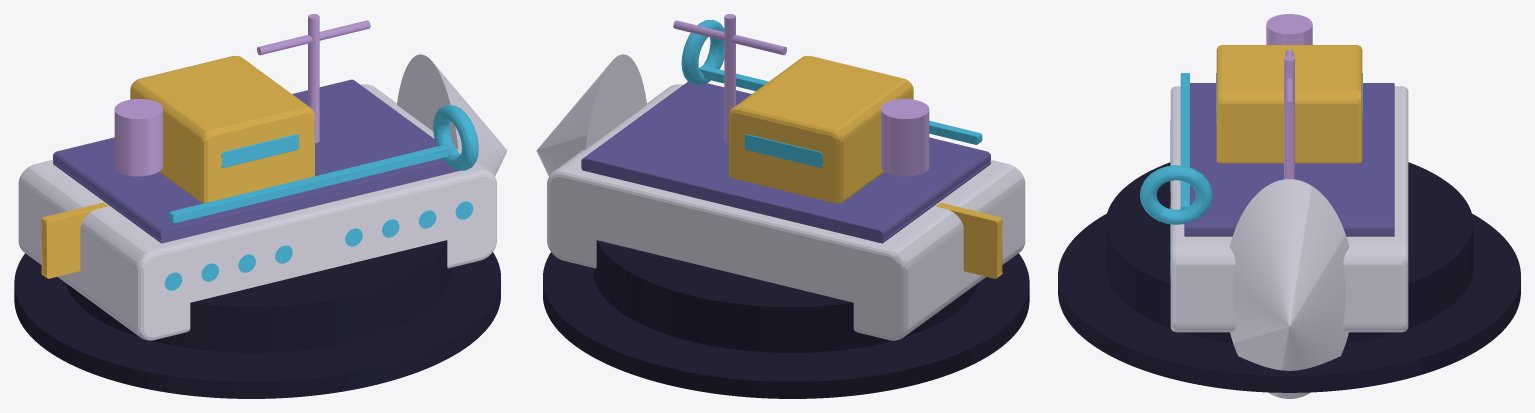
Rendered from 0363_航空航天图鉴_嫦娥一号.glb.
The picture shows the model from 3 angles, left to right: view 1: azimuth 30°, elevation 25°; view 2: azimuth 150°, elevation 25°; view 3: azimuth 270°, elevation 25°; orthographic projection. The views are drawn at different scales.
Visible parts, largest first — view 1: card_0363; view 2: card_0363; view 3: card_0363.
Part boxes in pixels (<box>): card_0363: <box>14,14,507,398</box>; card_0363: <box>536,14,1029,398</box>; card_0363: <box>1058,14,1520,398</box>.
Bounding box in the file's own units: 1.65 × 1 × 1.46.
